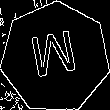M_S: (28, 28, 83, 86)
